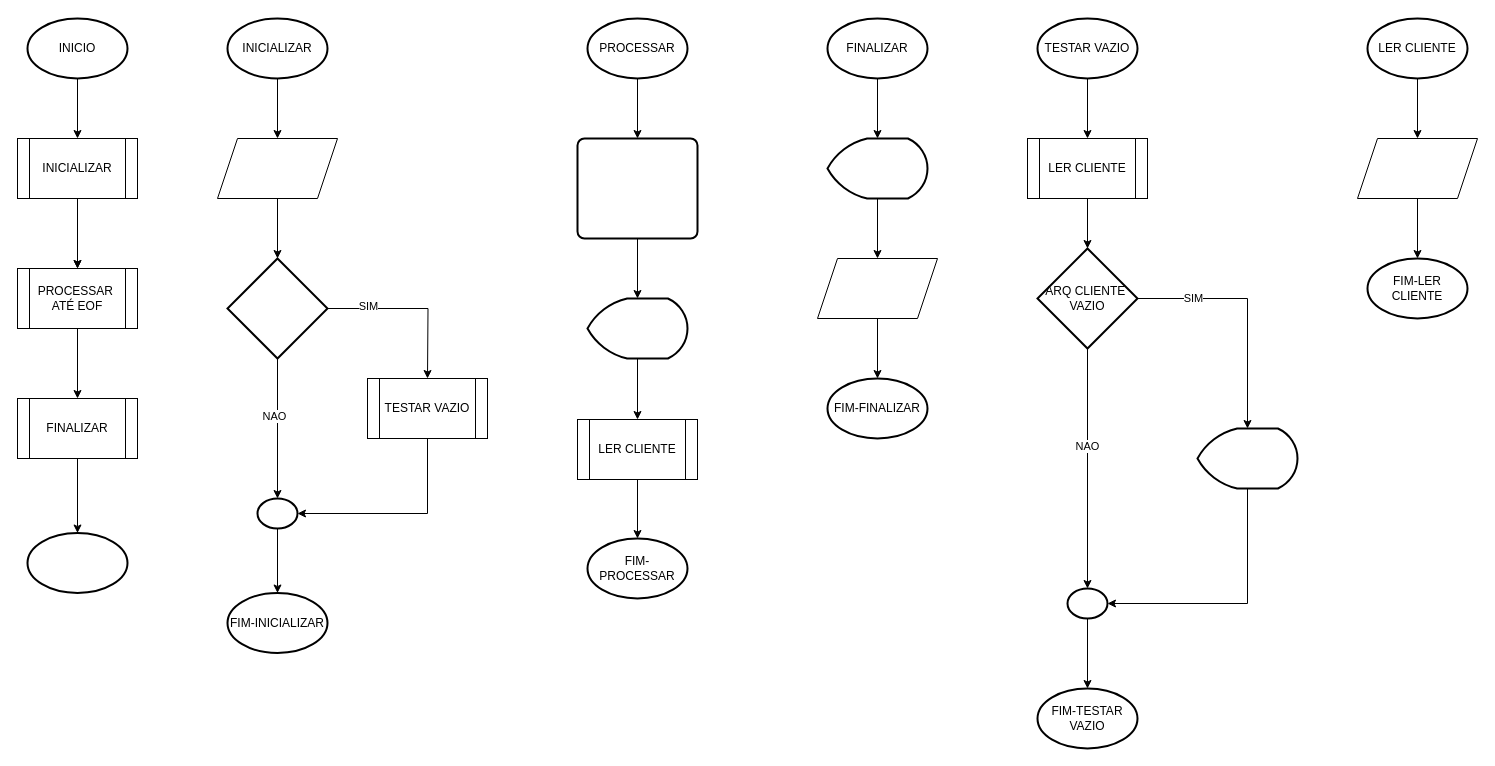
Image size: 1495x766. Some labels were removed from this diagram. Here are the shapes that lost their labels. From the top down, the centre of each, then its label:
At (x=277, y=168): "ABRIR ARQ CLIENTES".
At (x=637, y=188): "ACUM-LIDO = ACUM-LIDO + 1 ACUM-ACHADO = ACUM-ACHAO + 1".
At (x=877, y=168): "ACUM-LIDO ACUM-ACHADO".
At (x=1417, y=168): "LER ARQ CLIENTE".
At (x=277, y=308): "ARQ CLIENTES EXISTE".
At (x=877, y=288): "FECHA ARQ CLIENTES".
At (x=637, y=328): "REGISTRO CLIENTES".
At (x=1247, y=458): "NAO TEM REGISTRO".
At (x=77, y=563): "FIM".
